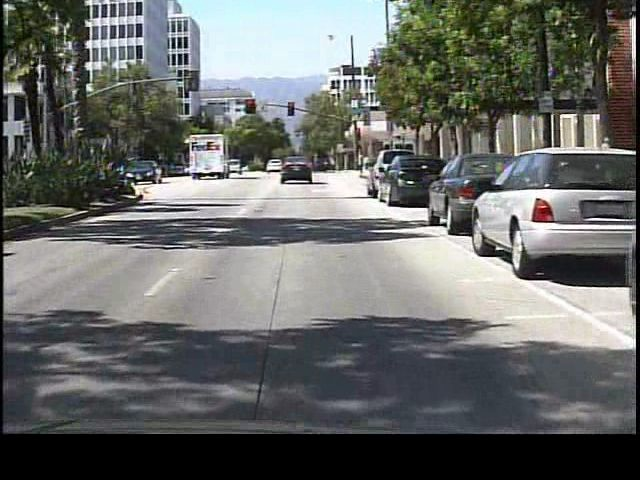person: (353, 147, 368, 177)
